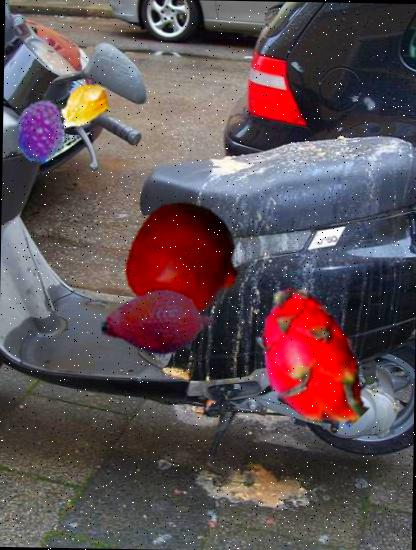Physalis: (52, 74, 115, 136)
Pitahaya: (236, 286, 387, 437)
Pomegranate: (124, 200, 244, 320)
Raspberry: (9, 98, 73, 162)
Salak: (100, 264, 217, 381)
